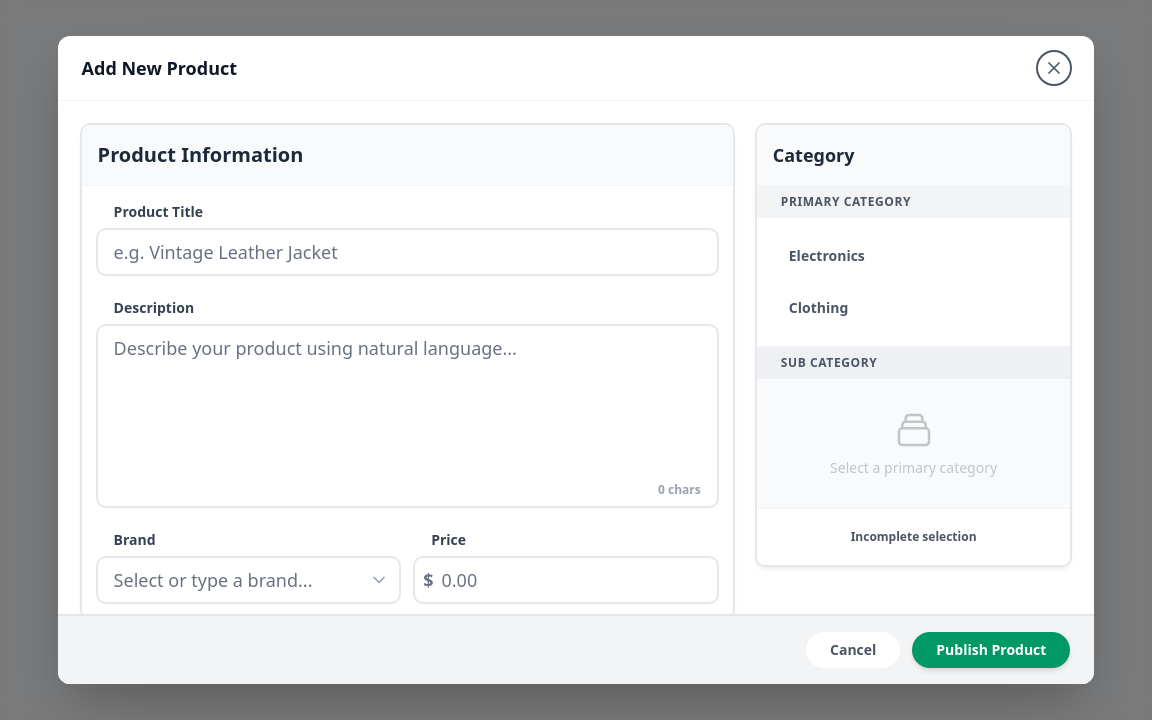
Test case: ProductFormModal › Form Interactions › shows character count for description
Type "test" into the text box labelled "Description" at [407, 404], box [98, 326, 717, 482]
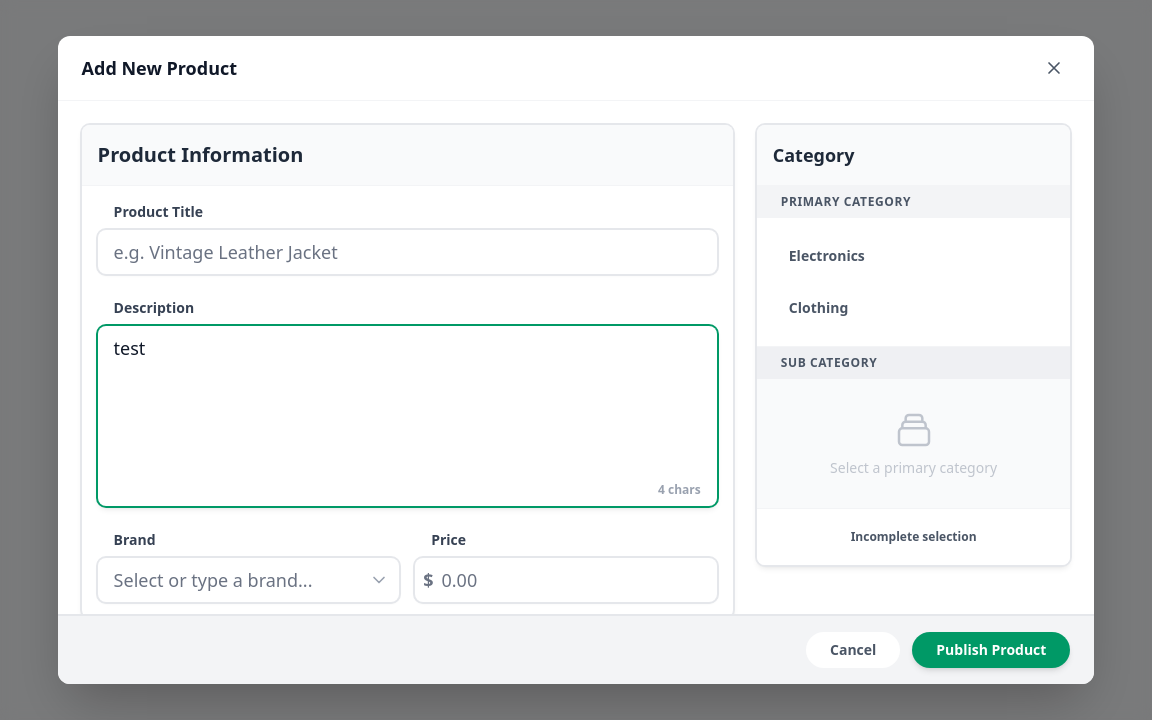
Check: the text "4 chars" is shown, box [658, 482, 701, 498]
